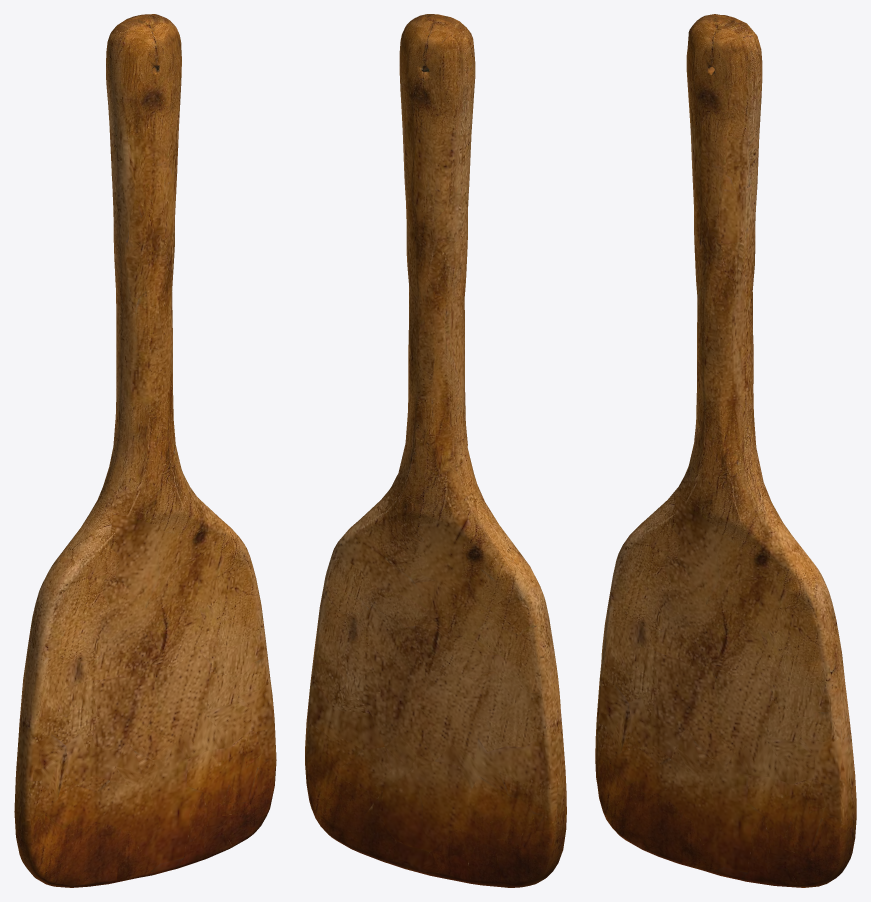
Rendered from wooden-paddle.glb.
The picture shows the model from 3 angles, left to right: view 1: azimuth 30°, elevation 25°; view 2: azimuth 150°, elevation 25°; view 3: azimuth 330°, elevation 25°; orthographic projection.
Bounding box in the file's own units: 0.59 × 1.9 × 0.1047.
1 material, 1 textured.
